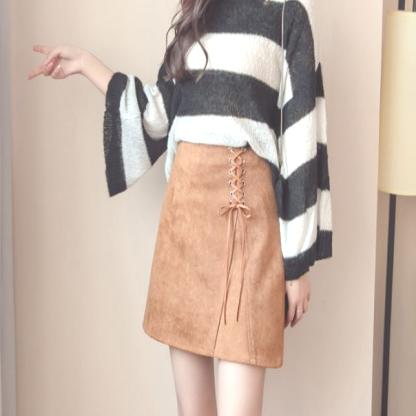dress: (101, 1, 338, 290)
jacket: (144, 132, 290, 369)
